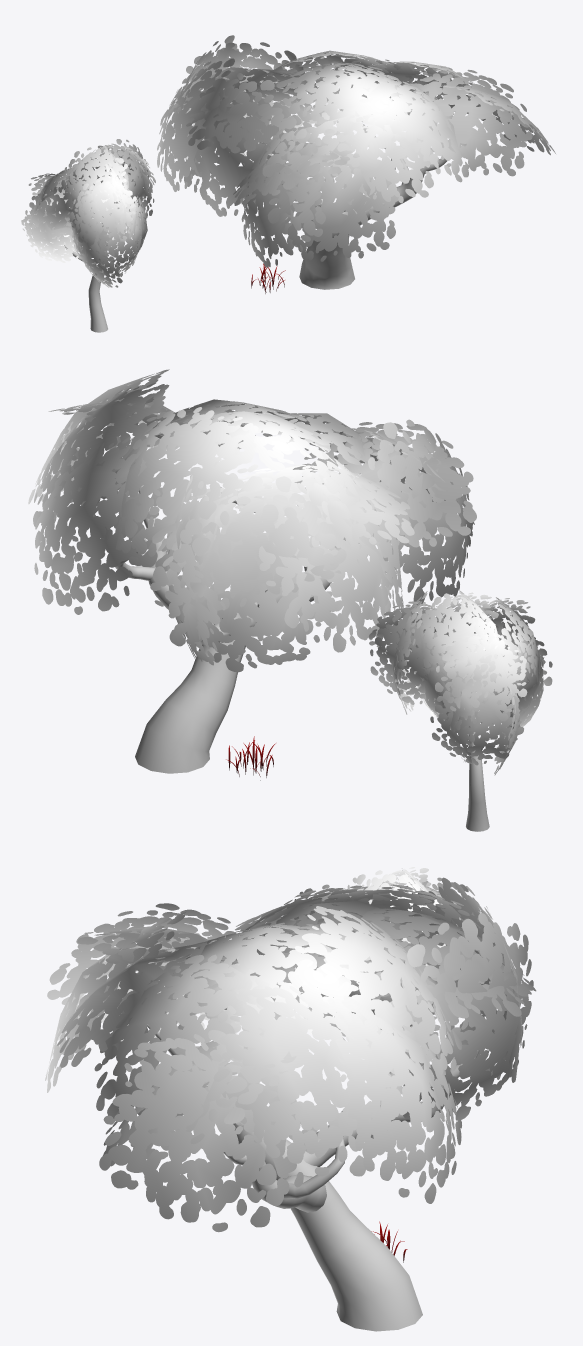
File: CatNature2.fbx
3 views of the same model, one above another, from view 1: azimuth 30°, elevation 25°; view 2: azimuth 150°, elevation 25°; view 3: azimuth 270°, elevation 25° (orthographic). The views are drawn at different scales.
Parts seen in each view (by area): view 1: Canopy, Canopy1, Trunk, Trunk1; view 2: Canopy, Canopy1, Trunk, Trunk1, Grass; view 3: Canopy, Trunk, Canopy1.
Boxes of the visible parts, x1,y1,x2,y2 form: Canopy: (157,35,555,267); Canopy1: (21,139,155,287); Trunk: (240,115,446,289); Trunk1: (64,207,119,332); Canopy: (28,369,476,672); Canopy1: (369,589,552,775); Trunk: (115,485,341,773); Trunk1: (466,710,489,831); Grass: (226,736,275,780); Canopy: (45,877,536,1232); Trunk: (147,1020,479,1331); Canopy1: (283,867,483,1040).
Bounding box in the file's own units: 40.55 × 22.07 × 28.28.
